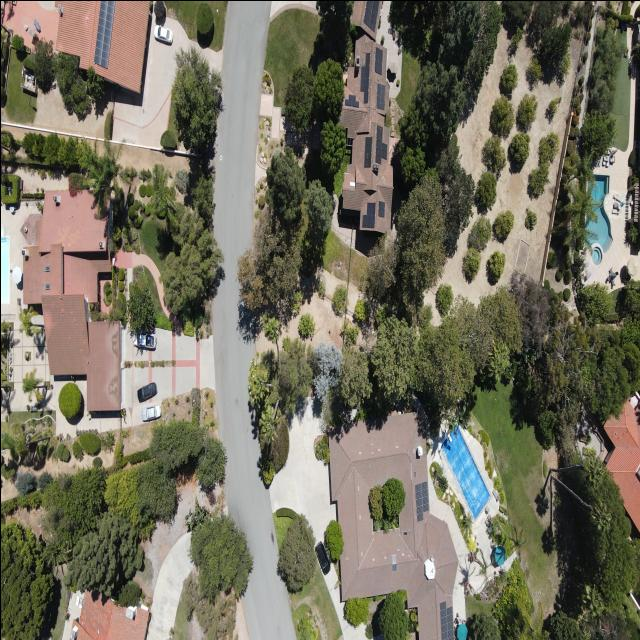solar-panels: (92, 0, 114, 68), (414, 480, 429, 521), (361, 0, 379, 32), (439, 600, 453, 640), (374, 124, 387, 164), (359, 51, 369, 102), (361, 201, 375, 227), (363, 136, 371, 168), (376, 82, 385, 110), (374, 46, 382, 74), (344, 94, 358, 107), (377, 200, 384, 217)
